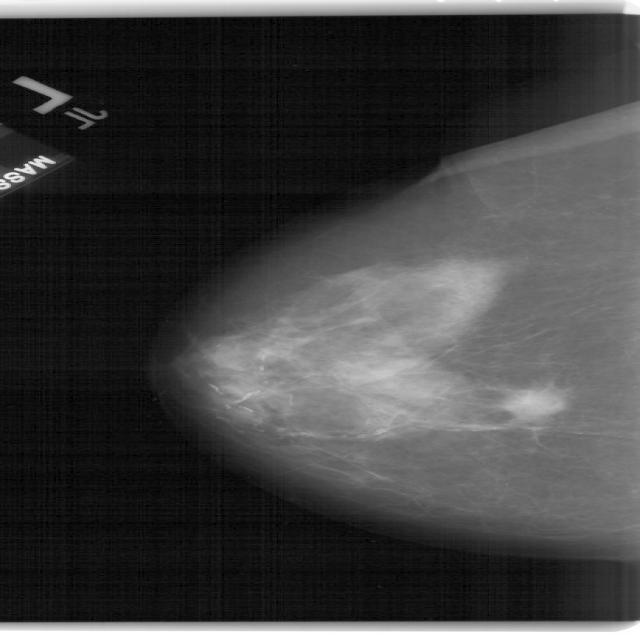tumour: (497, 388, 564, 422)
